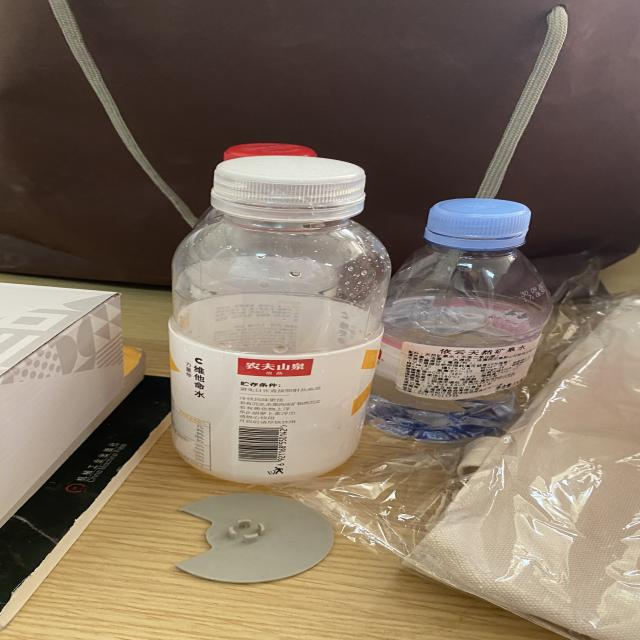Anorganik: (168, 150, 359, 492), (382, 196, 556, 453)
